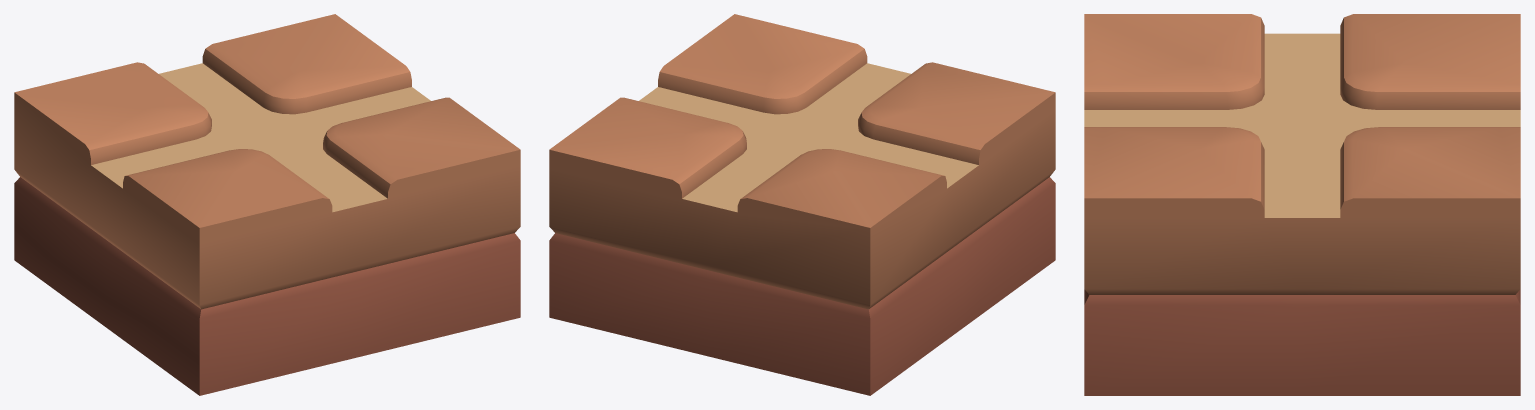
Rendered from kaykit-square-rock-roade-detail.glb.
3 views of the same model, side by side, from view 1: azimuth 30°, elevation 25°; view 2: azimuth 150°, elevation 25°; view 3: azimuth 270°, elevation 25° (orthographic). The views are drawn at different scales.
Visible parts, largest first — view 1: square_rock_roadE_detail; view 2: square_rock_roadE_detail; view 3: square_rock_roadE_detail.
Part boxes in pixels (left/top/right/bottom): square_rock_roadE_detail: left=14, top=14, right=520, bottom=395; square_rock_roadE_detail: left=549, top=14, right=1055, bottom=395; square_rock_roadE_detail: left=1084, top=14, right=1520, bottom=395.
Bounding box in the file's own units: 2 × 0.9998 × 2.
